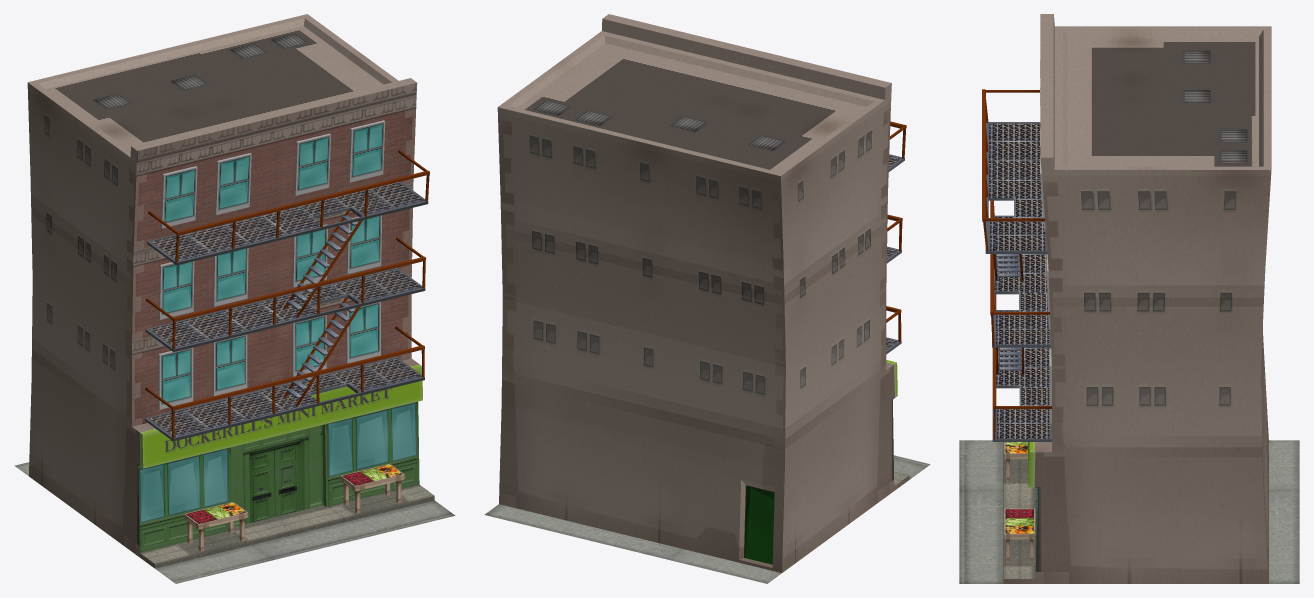
File: Minimart.fbx
3 views of the same model, side by side, from view 1: azimuth 30°, elevation 25°; view 2: azimuth 150°, elevation 25°; view 3: azimuth 270°, elevation 25° (orthographic). The views are drawn at different scales.
Parts seen in each view (by area): view 1: minimart; view 2: minimart; view 3: minimart.
Part boxes in pixels (x1,y1,x2,y2): minimart: [14, 14, 455, 583]; minimart: [484, 14, 930, 583]; minimart: [959, 14, 1299, 583].
Bounding box in the file's own units: 10 × 13.83 × 10.
1 material, 1 textured.
